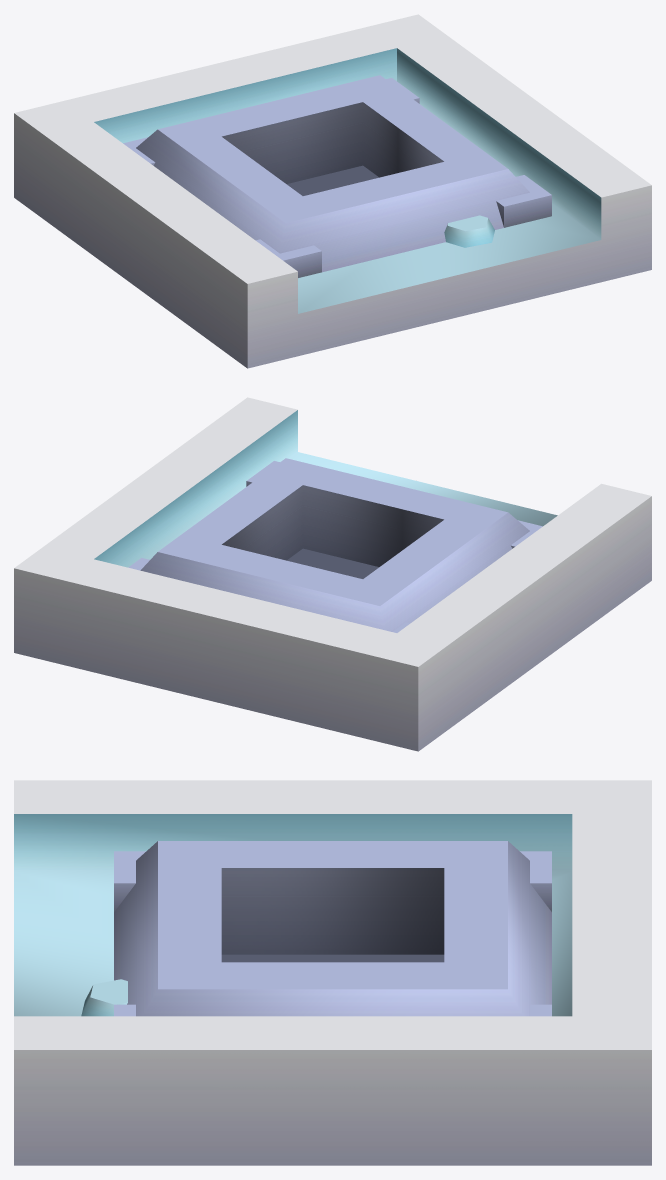
Rendered from kenney-tower-defense-snow-tile-spawn-end.glb.
3 views of the same model, one above another, from view 1: azimuth 30°, elevation 25°; view 2: azimuth 150°, elevation 25°; view 3: azimuth 270°, elevation 25° (orthographic). The views are drawn at different scales.
Parts seen in each view (by area): view 1: snow-tile-spawn-end; view 2: snow-tile-spawn-end; view 3: snow-tile-spawn-end.
Part boxes in pixels (x1=…): snow-tile-spawn-end: x1=14, y1=14, x2=651, y2=368; snow-tile-spawn-end: x1=14, y1=397, x2=651, y2=751; snow-tile-spawn-end: x1=14, y1=780, x2=651, y2=1165.
Bounding box in the file's own units: 1 × 0.2 × 1.
Materials: 1 (1 with a texture image).
